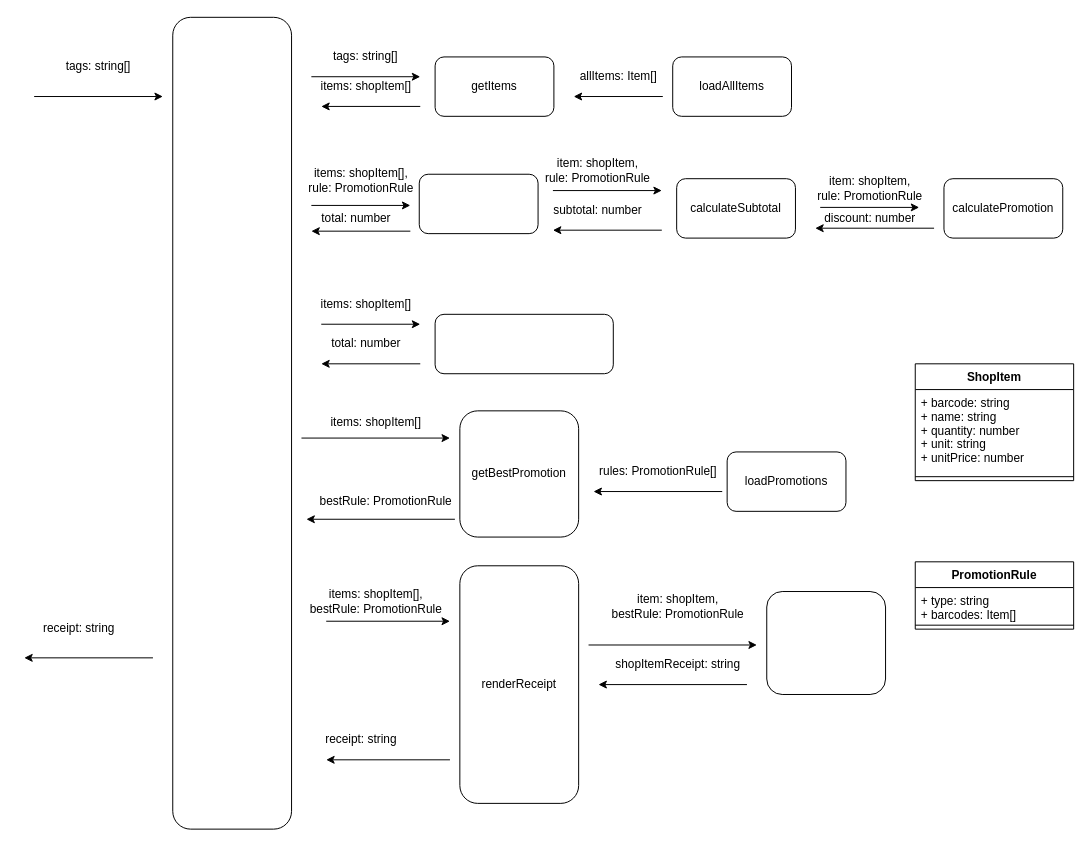
The diagram is 1091 pixels wide and 846 high, and some of its shapes have lost their labels. Here are the shapes that lost their labels. From the top down, the centre of each, then its label:
(478,203): calculateTotal
(523,343): calculateTotalWithoutPromo
(232,422): printReceipt
(826,642): renderShopItem
